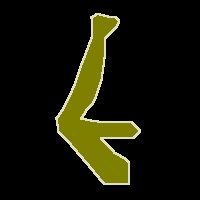tie: (56, 14, 140, 184)
